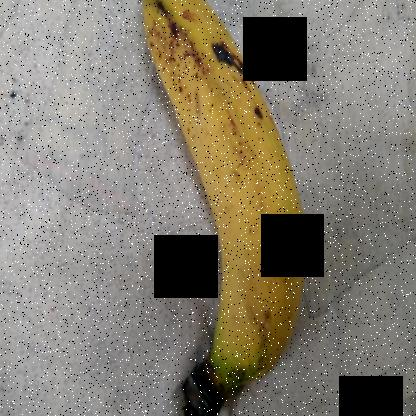ripe: (128, 1, 313, 393)
